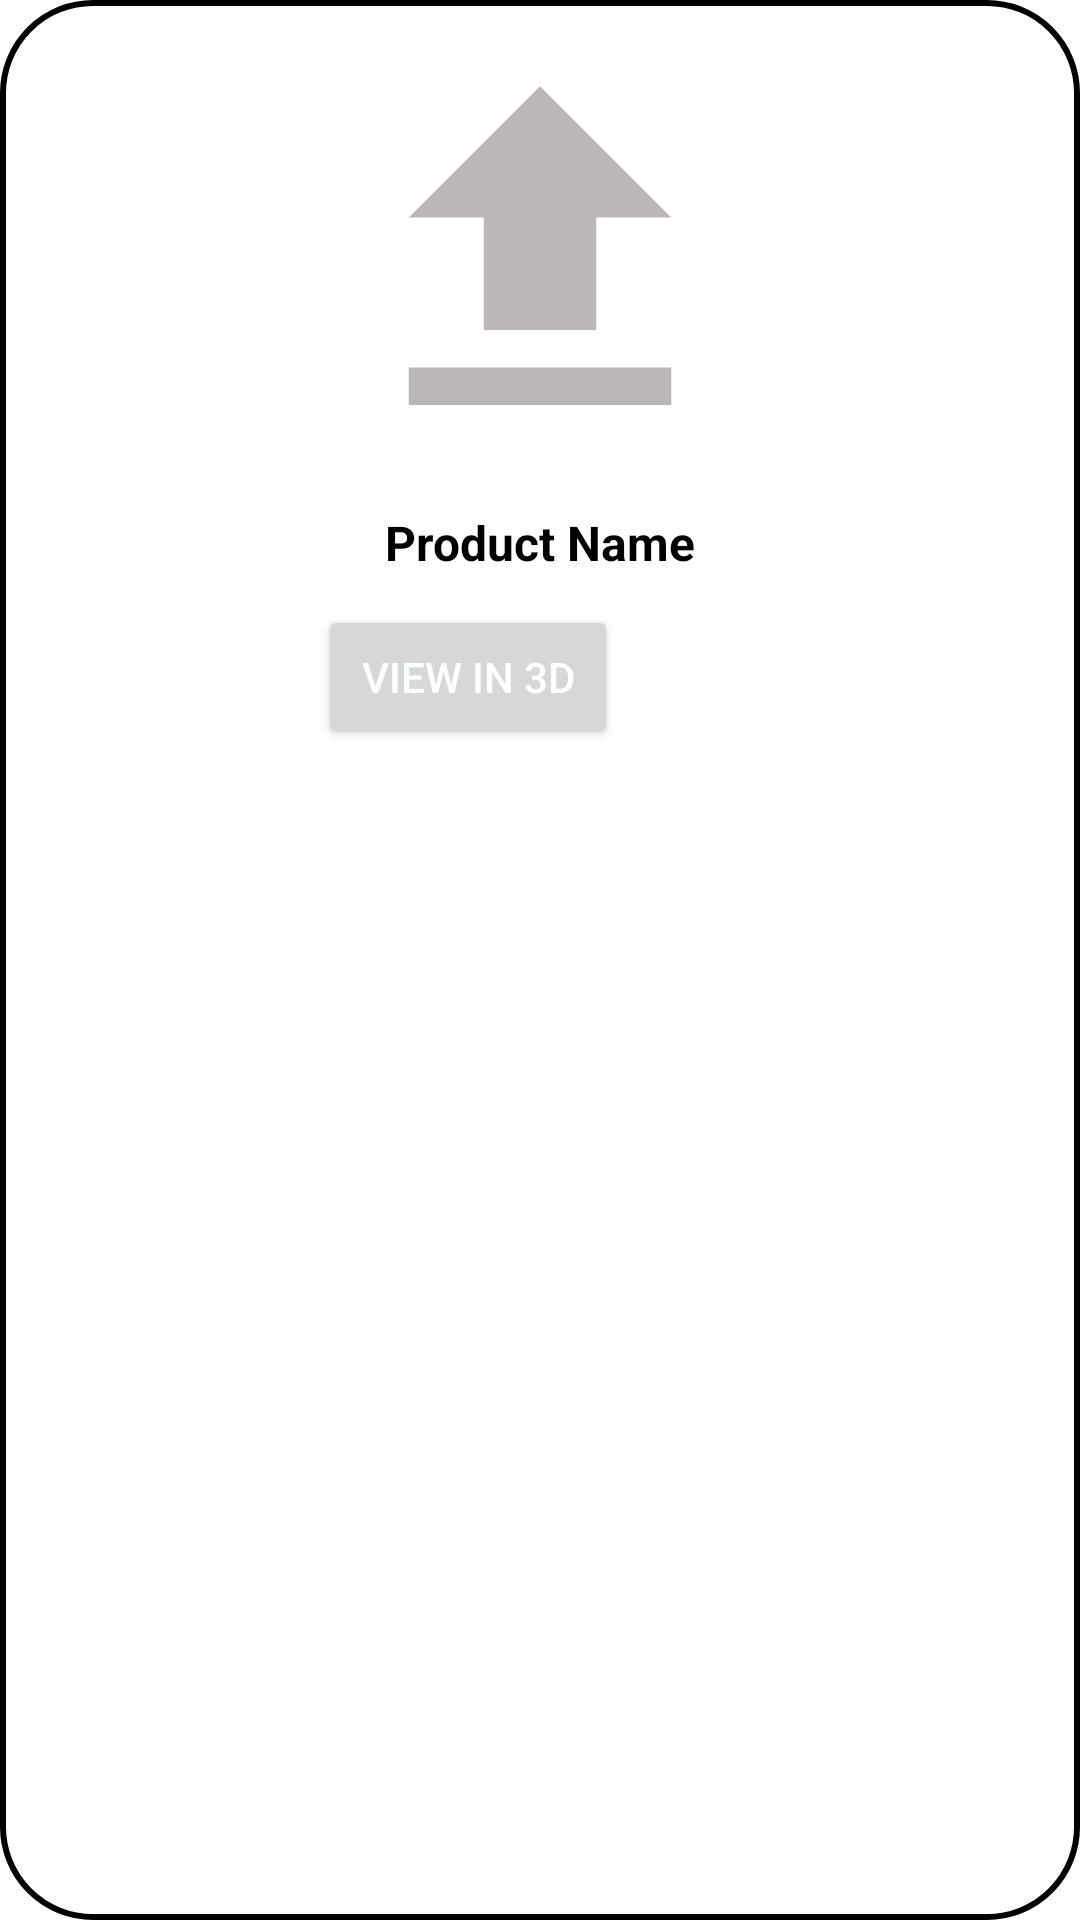

Icon click points for this 1080px x 1920px phone screenshot, format (x,y):
upload: (540,246)
